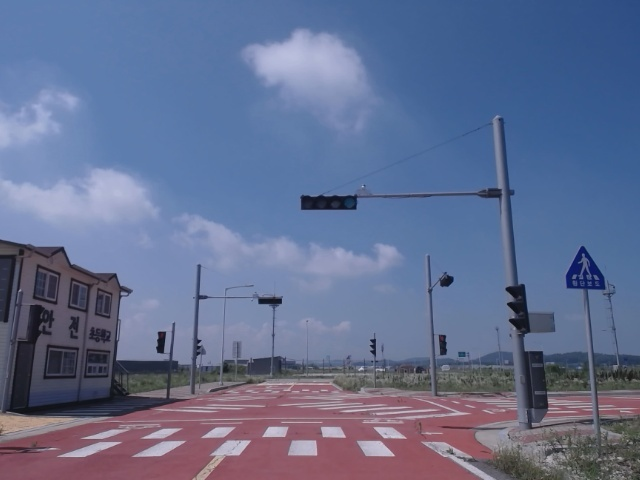straight_green_4: (300, 196, 357, 210)
